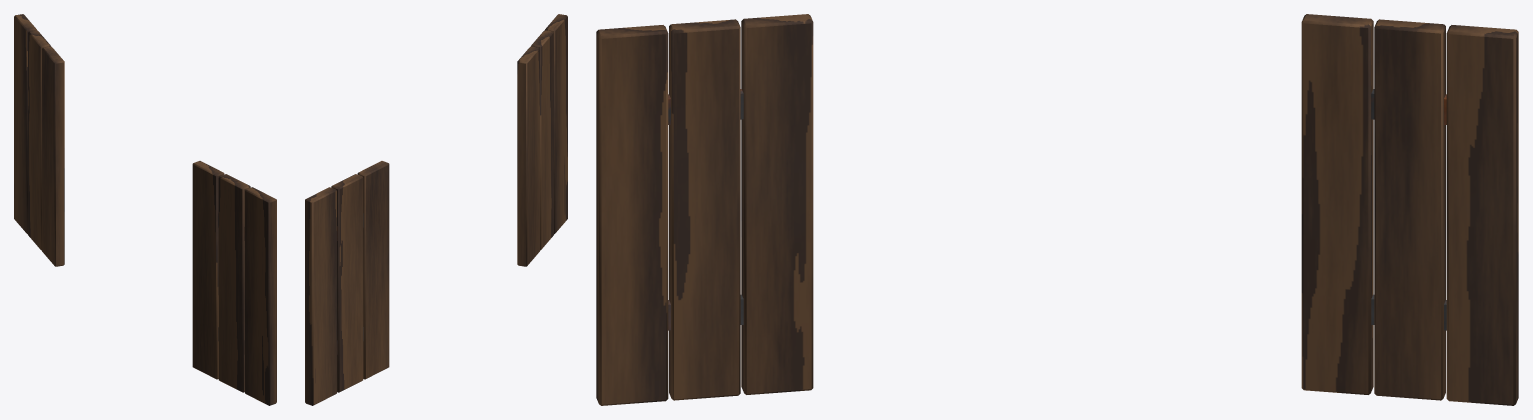
File: SM_Window_Shutters.glb
3 views of the same model, side by side, from view 1: azimuth 30°, elevation 25°; view 2: azimuth 150°, elevation 25°; view 3: azimuth 270°, elevation 25° (orthographic). The views are drawn at different scales.
Parts seen in each view (by area): view 1: SM_Window_Shutters; view 2: SM_Window_Shutters; view 3: SM_Window_Shutters.
Boxes of the visible parts, bbox=[...] form: SM_Window_Shutters: bbox=[14, 14, 276, 405]; SM_Window_Shutters: bbox=[305, 14, 567, 405]; SM_Window_Shutters: bbox=[596, 14, 1518, 405].
Bounding box in the file's own units: 0.0998 × 0.72 × 1.63.
Materials: 1 (1 with a texture image).
